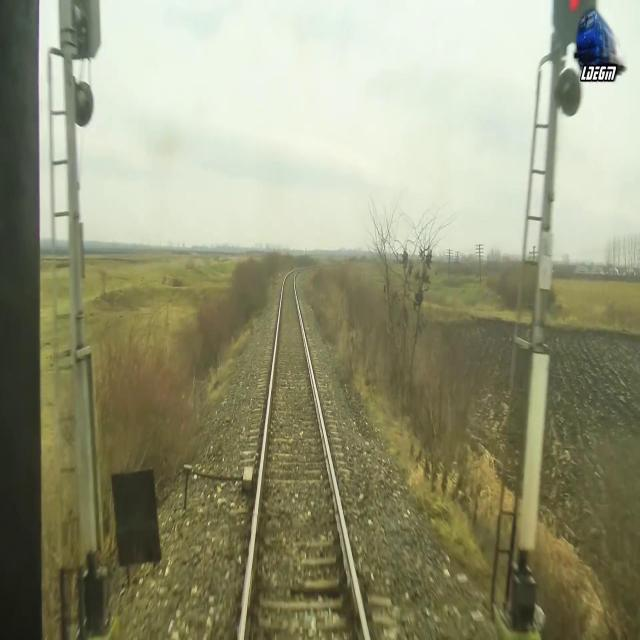rail-track: (243, 271, 365, 639)
